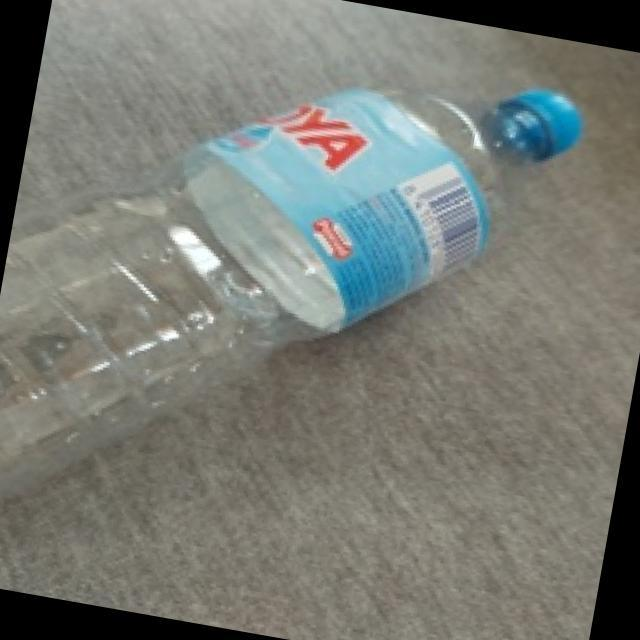good: (0, 0, 610, 629)
